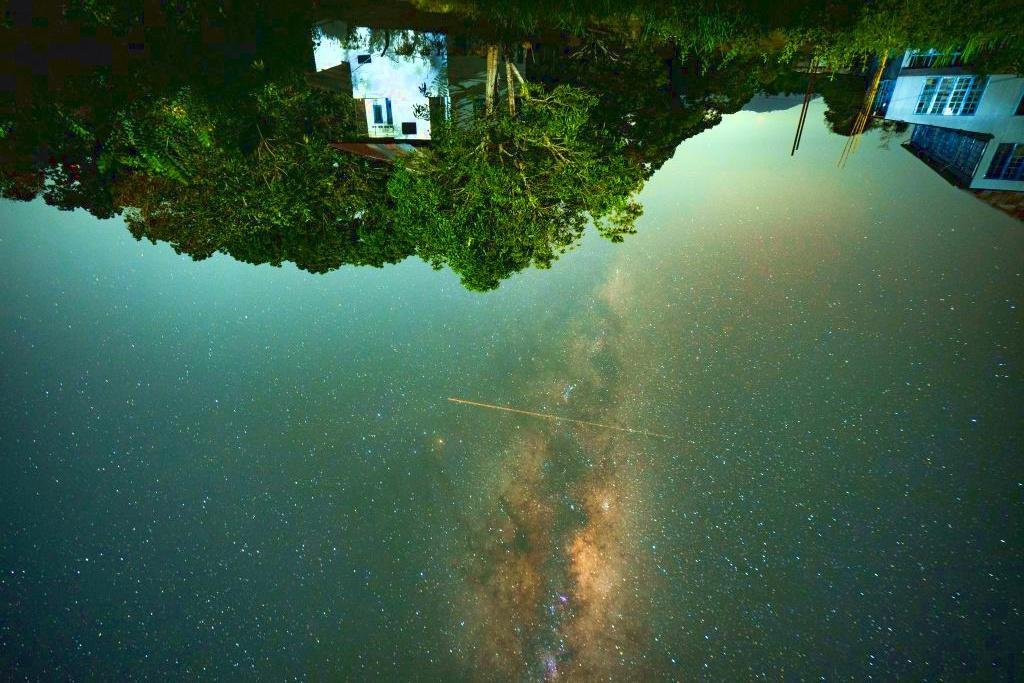meteorite: (433, 391, 699, 450)
